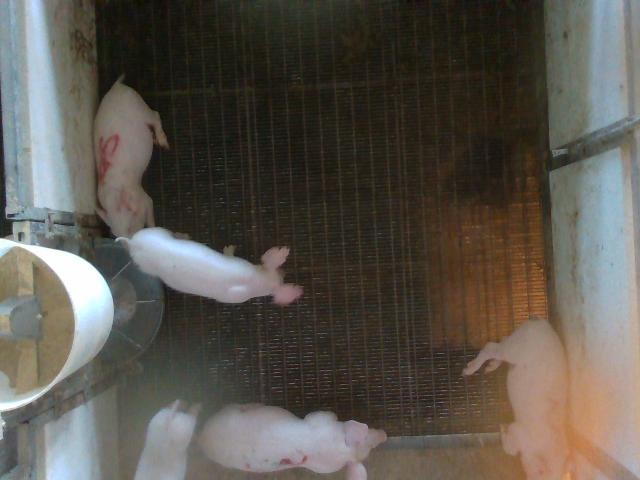pig-2: (464, 319, 569, 479)
pig-3: (198, 404, 386, 479)
pig-5: (94, 76, 169, 237)
